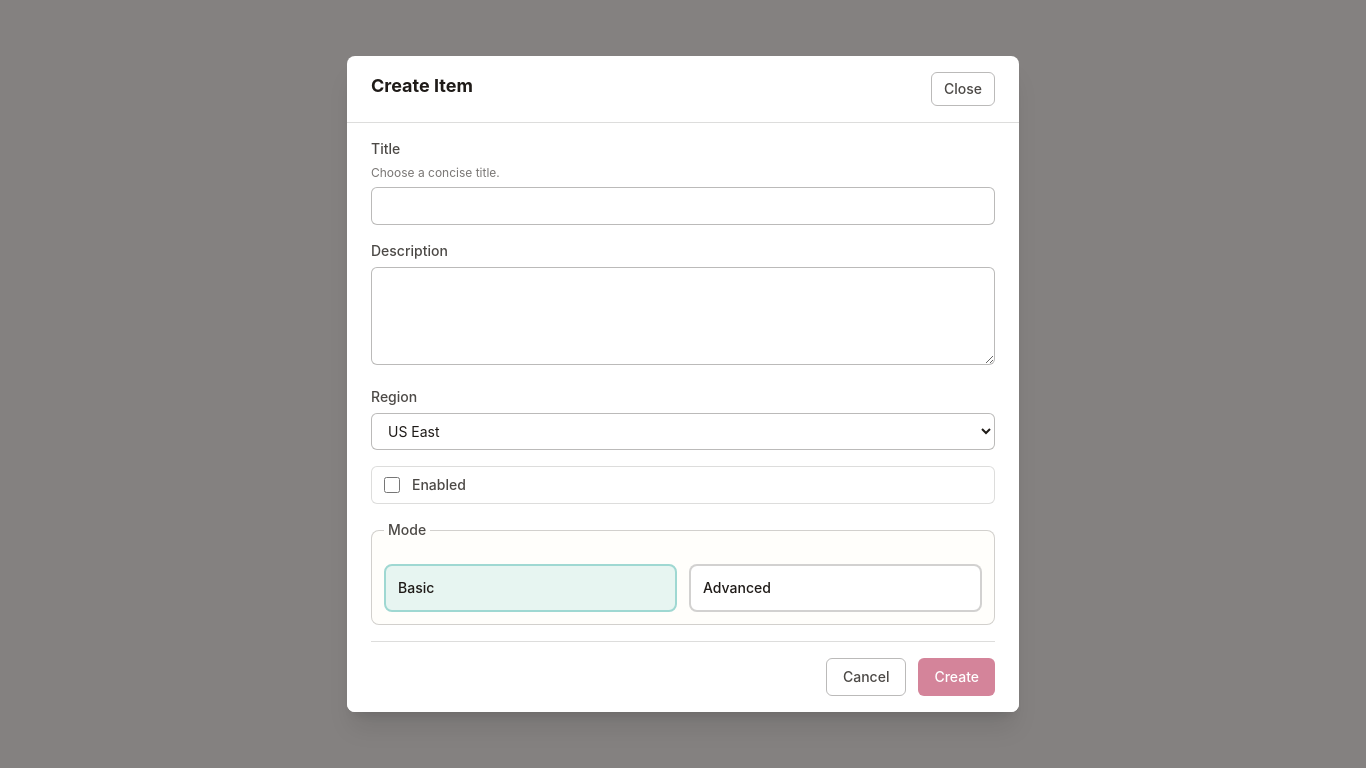
Scenario: EditorDialog › applies shared shell, field, alert, and footer styling tokens
The width and height of the screenshot is (1366, 768).
Expected: the radio button with test id "editor-dialog-field-mode-basic" is shown, x1=384 y1=564 x2=677 y2=612
Expected: the radio button with test id "editor-dialog-field-mode-advanced" is shown, x1=689 y1=564 x2=982 y2=612
Step 1. Type "Styled title" into the field labelled "Title" → (683, 206), box x1=371 y1=187 x2=995 y2=225
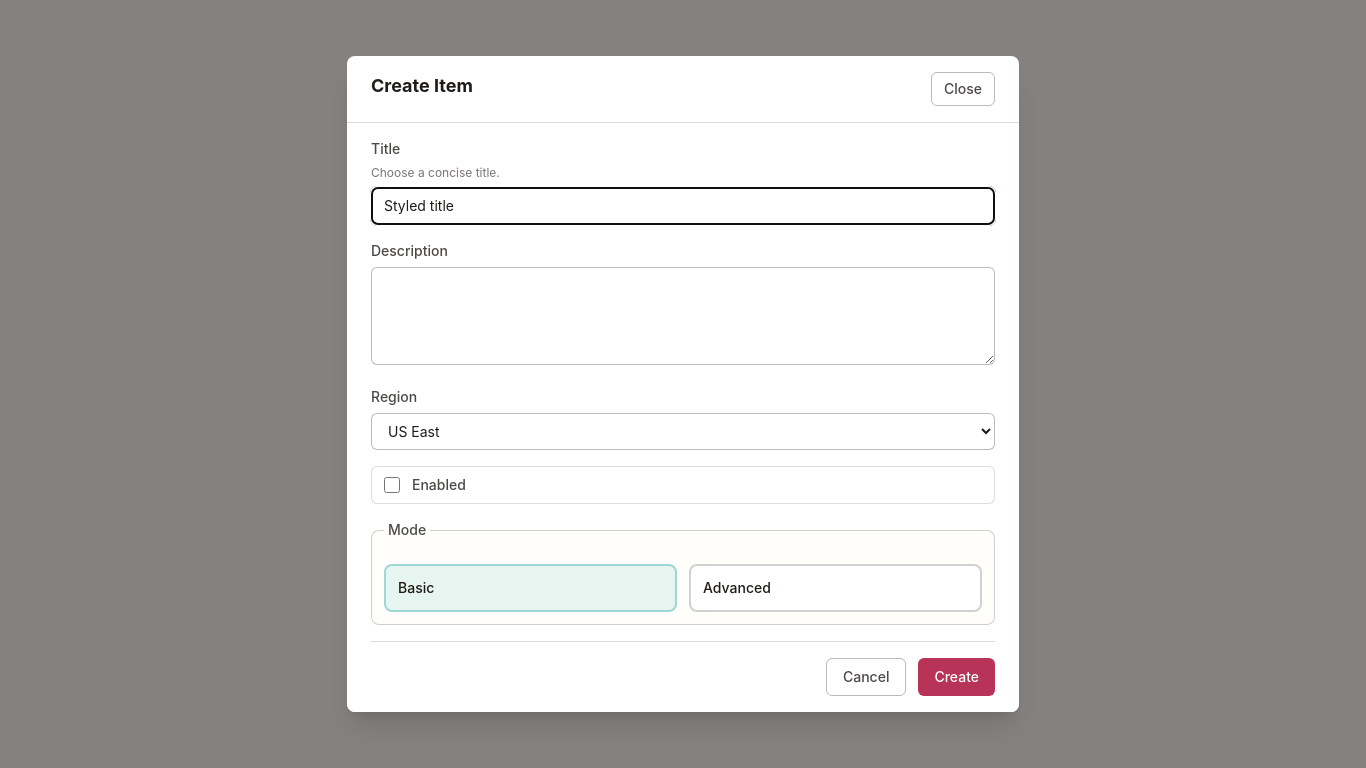
Step 2. Click the button with test id "editor-dialog-save" → (957, 677), box x1=918 y1=658 x2=995 y2=696
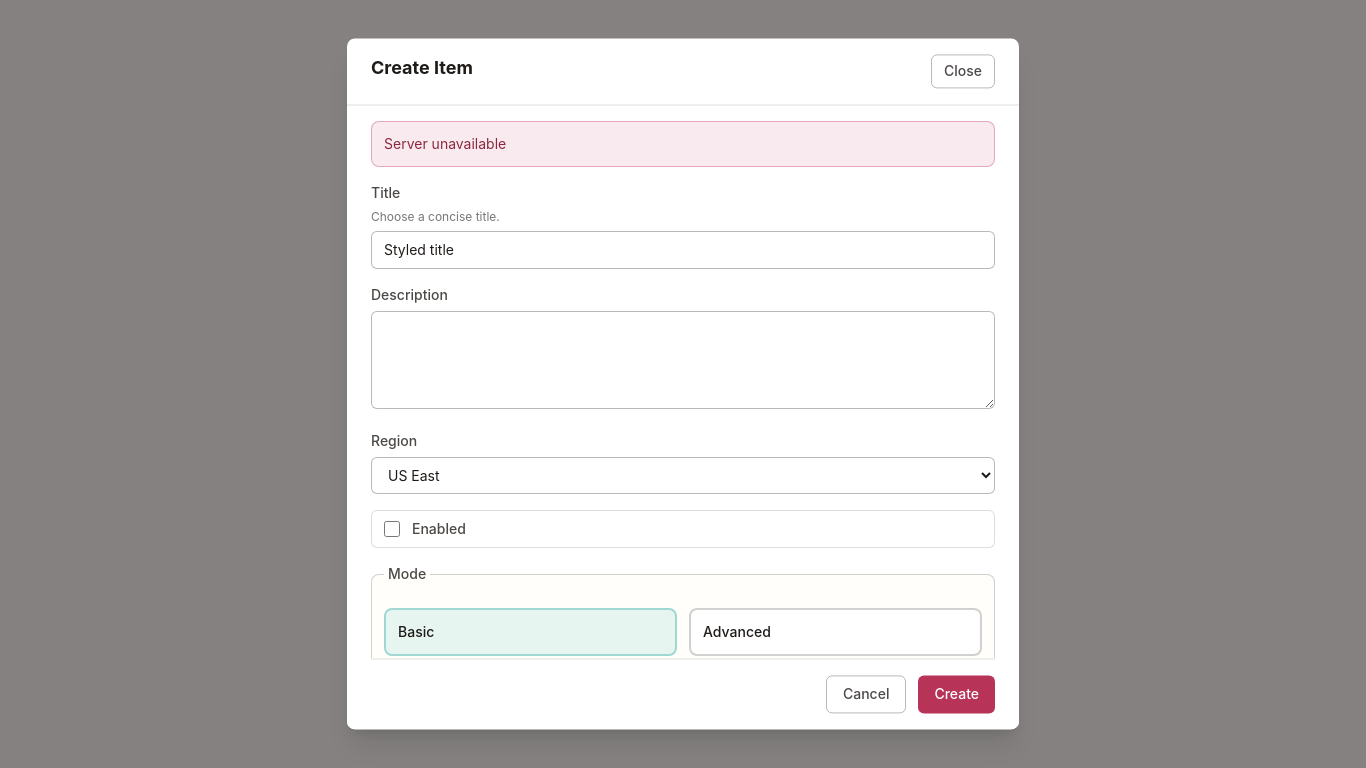
Step 3. Click the button with test id "editor-dialog-close" → (963, 71), box x1=931 y1=54 x2=995 y2=88
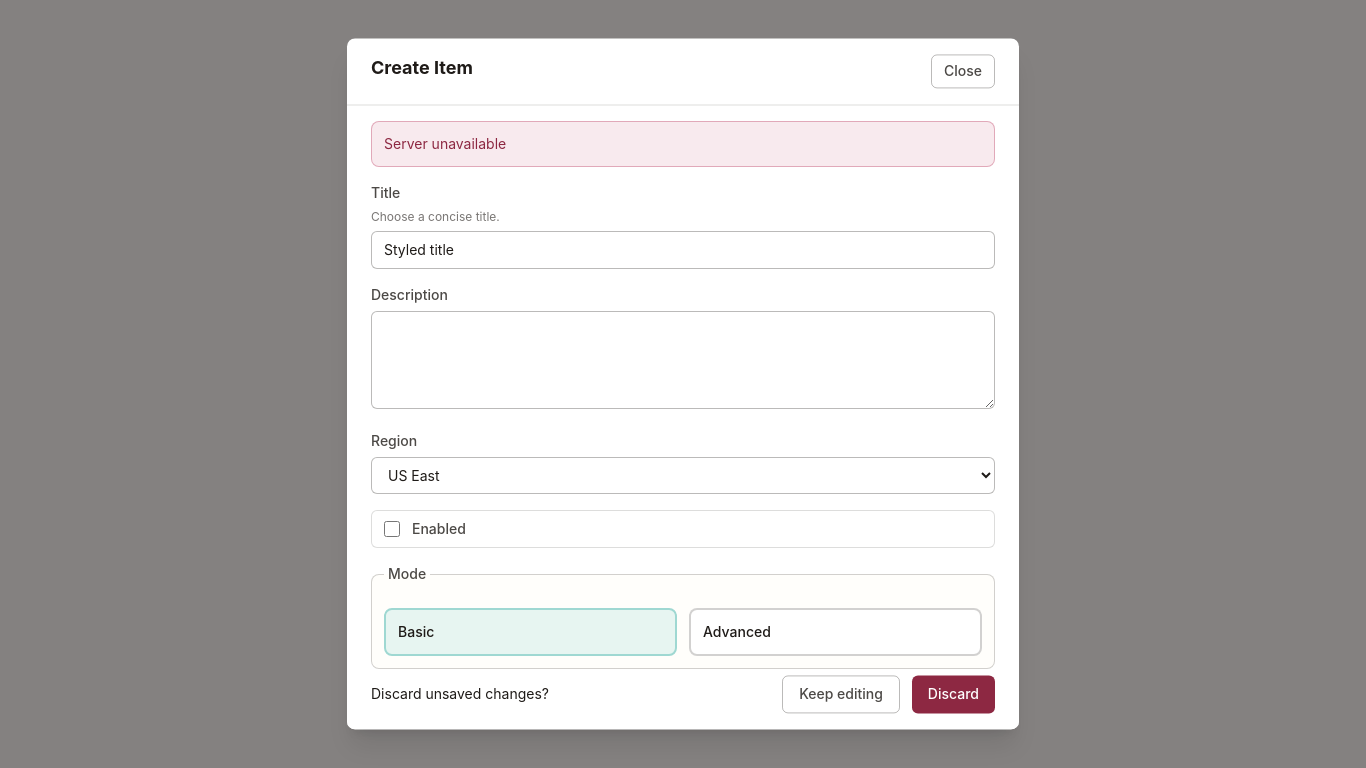
Now the text "Discard unsaved changes?" is shown, box x1=371 y1=685 x2=549 y2=705
